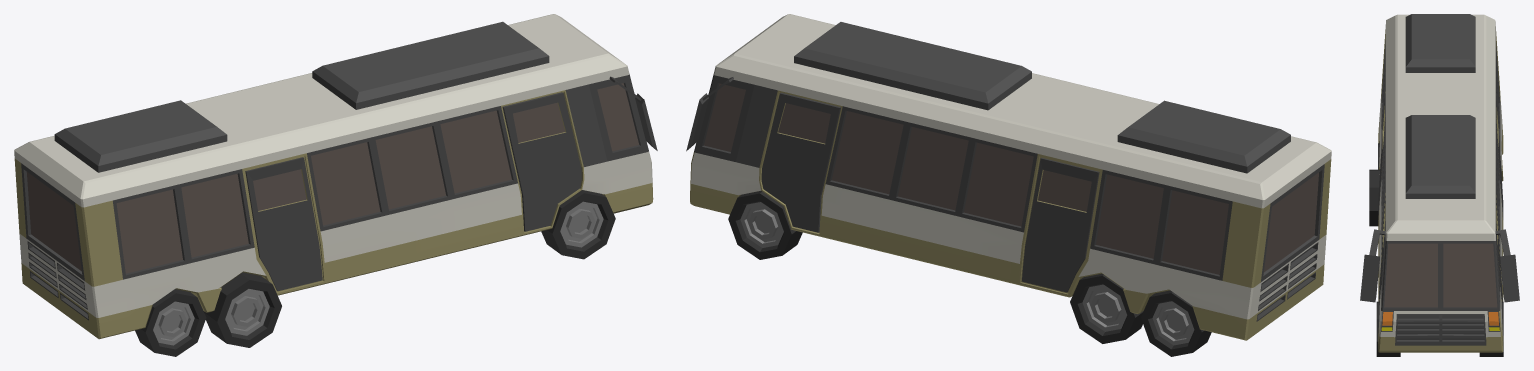
Rendered from Bus.fbx.
3 views of the same model, side by side, from view 1: azimuth 30°, elevation 25°; view 2: azimuth 150°, elevation 25°; view 3: azimuth 270°, elevation 25° (orthographic). The views are drawn at different scales.
Parts seen in each view (by area): view 1: Bus; view 2: Bus; view 3: Bus.
Boxes of the visible parts, box(x1,y1,x2,y2) form: Bus: box(14, 14, 657, 356); Bus: box(686, 14, 1331, 356); Bus: box(1360, 14, 1519, 356).
Bounding box in the file's own units: 891 × 305 × 271.
